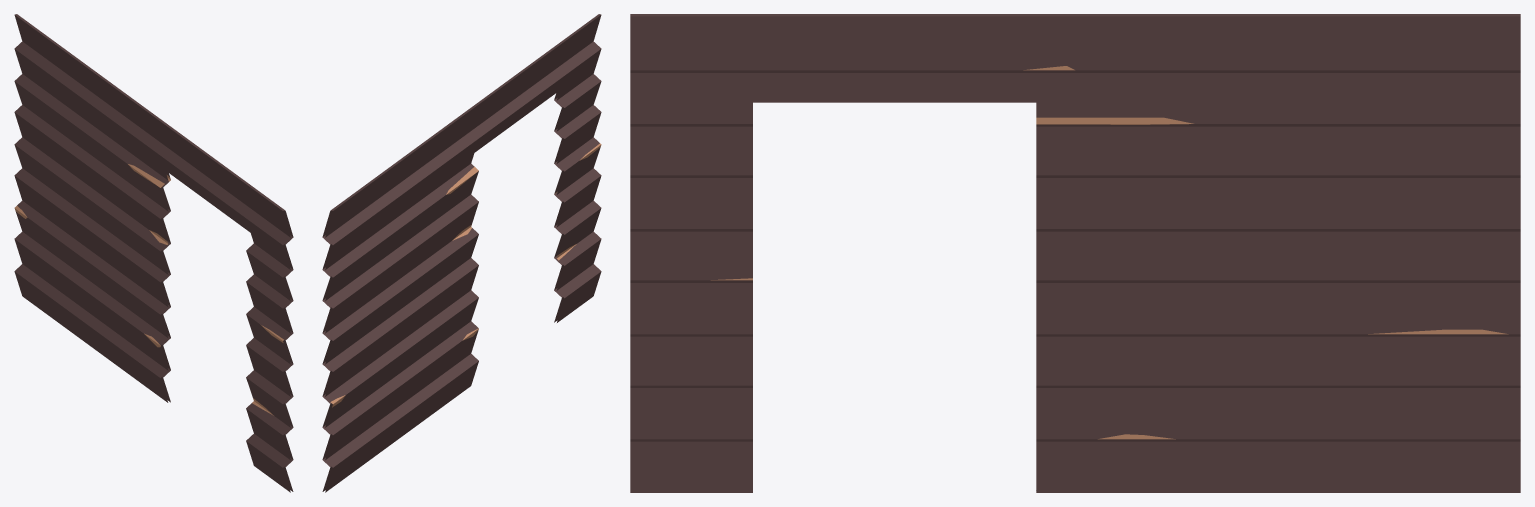
Rendered from builder_46.FBX.
The picture shows the model from 3 angles, left to right: view 1: azimuth 30°, elevation 25°; view 2: azimuth 150°, elevation 25°; view 3: azimuth 270°, elevation 25°; orthographic projection. The views are drawn at different scales.
Parts seen in each view (by area): view 1: builder_46; view 2: builder_46; view 3: builder_46.
Boxes of the visible parts, x1,y1,x2,y2 form: builder_46: (14, 14, 293, 492); builder_46: (322, 14, 601, 492); builder_46: (630, 14, 1520, 492).
Bounding box in the file's own units: 2.79 × 71.88 × 123.
